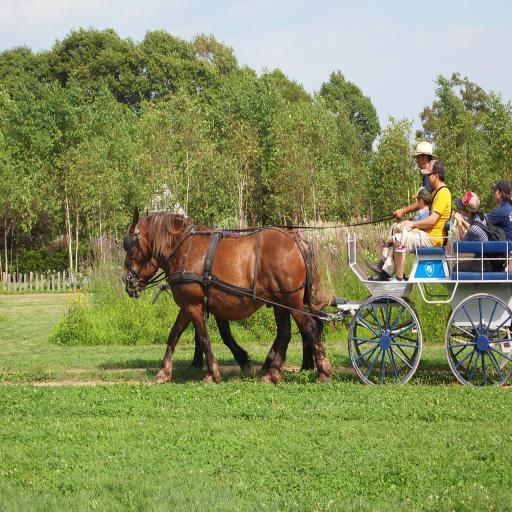horse: (122, 202, 340, 385)
